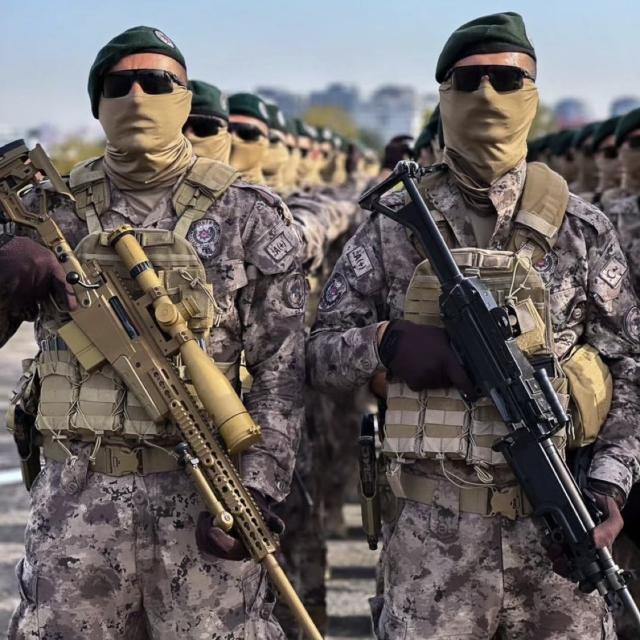poh_personel: (306, 10, 640, 640), (0, 23, 311, 640)
